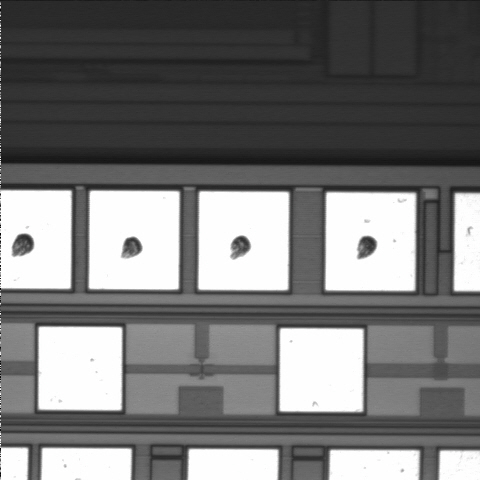pad: (198, 191, 289, 290), (89, 191, 179, 290), (326, 192, 416, 291), (280, 328, 363, 412), (39, 327, 122, 410)
